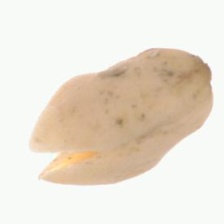L1: (28, 136, 96, 181), (196, 54, 214, 104)
L2: (28, 47, 213, 186)
